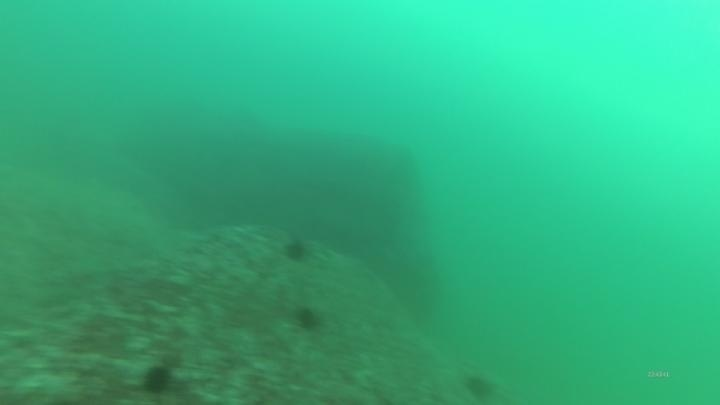echinus: (139, 362, 176, 397), (462, 371, 498, 402), (291, 303, 325, 333), (281, 236, 311, 265)
